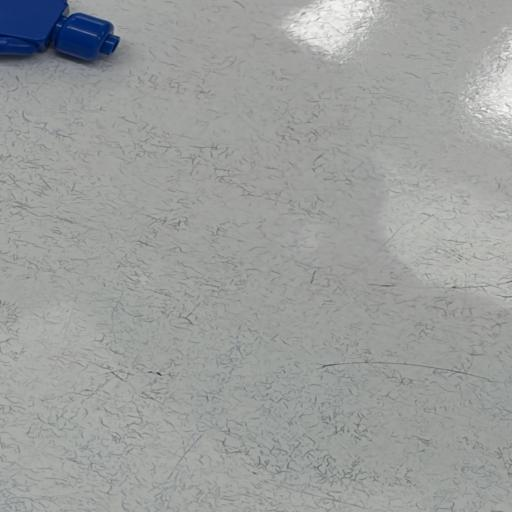Blue-Lego: (0, 0, 120, 62)
